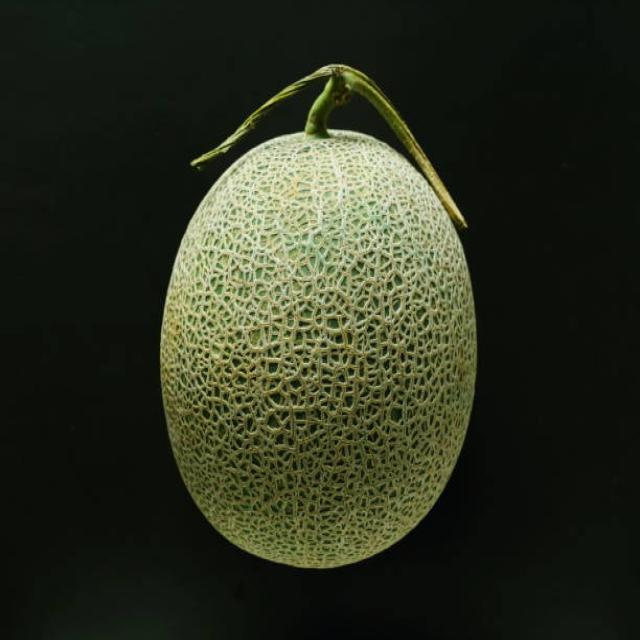cantaloupe: (161, 64, 477, 568)
